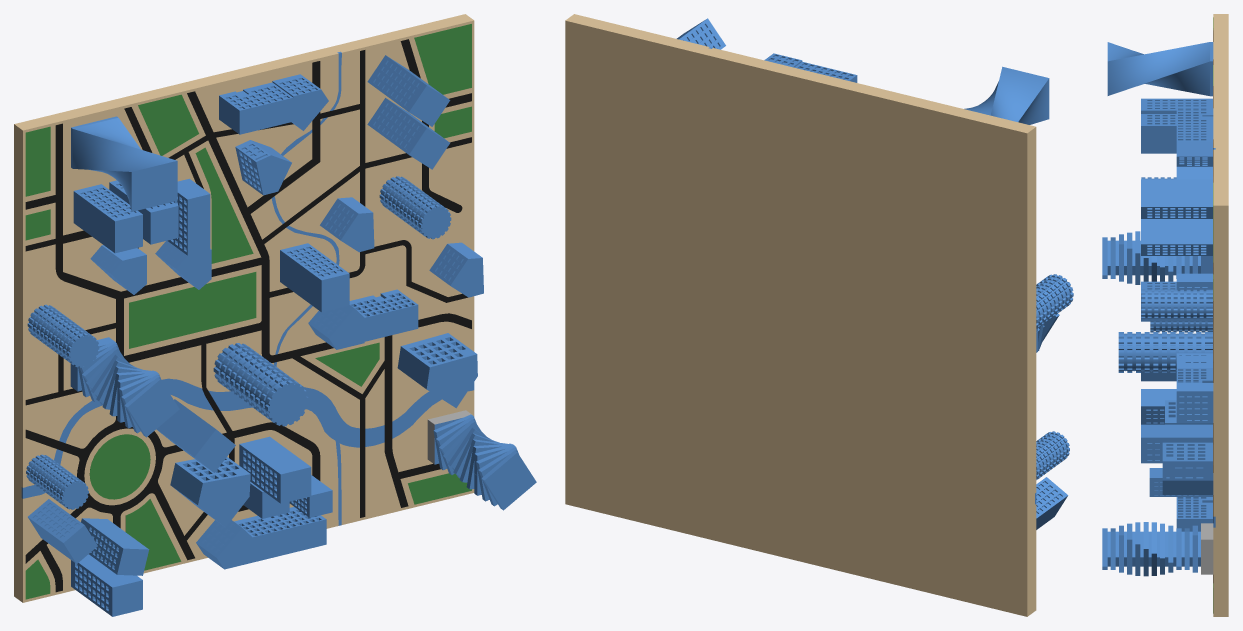
Rendered from город v12.fbx.
3 renders of one model, left to right at view 1: azimuth 30°, elevation 25°; view 2: azimuth 150°, elevation 25°; view 3: azimuth 270°, elevation 25°, orthographic. The views are drawn at different scales.
Visible parts, largest first — view 1: Body1, почва с рекой, зелень, дороги, река; view 2: почва с рекой, Body1; view 3: Body1, почва с рекой, дороги.
Part boxes in pixels (x1,y1,x2,y2): Body1: (26,55,536,616); почва с рекой: (14,14,474,602); зелень: (25,24,471,599); дороги: (25,39,471,592); река: (21,51,474,525); почва с рекой: (565,14,1036,616); Body1: (676,18,1073,529); Body1: (1102,42,1213,576); почва с рекой: (1213,14,1228,616); дороги: (1213,30,1213,582).
Size of the model in its own units: 177 by 177 by 49.21.
